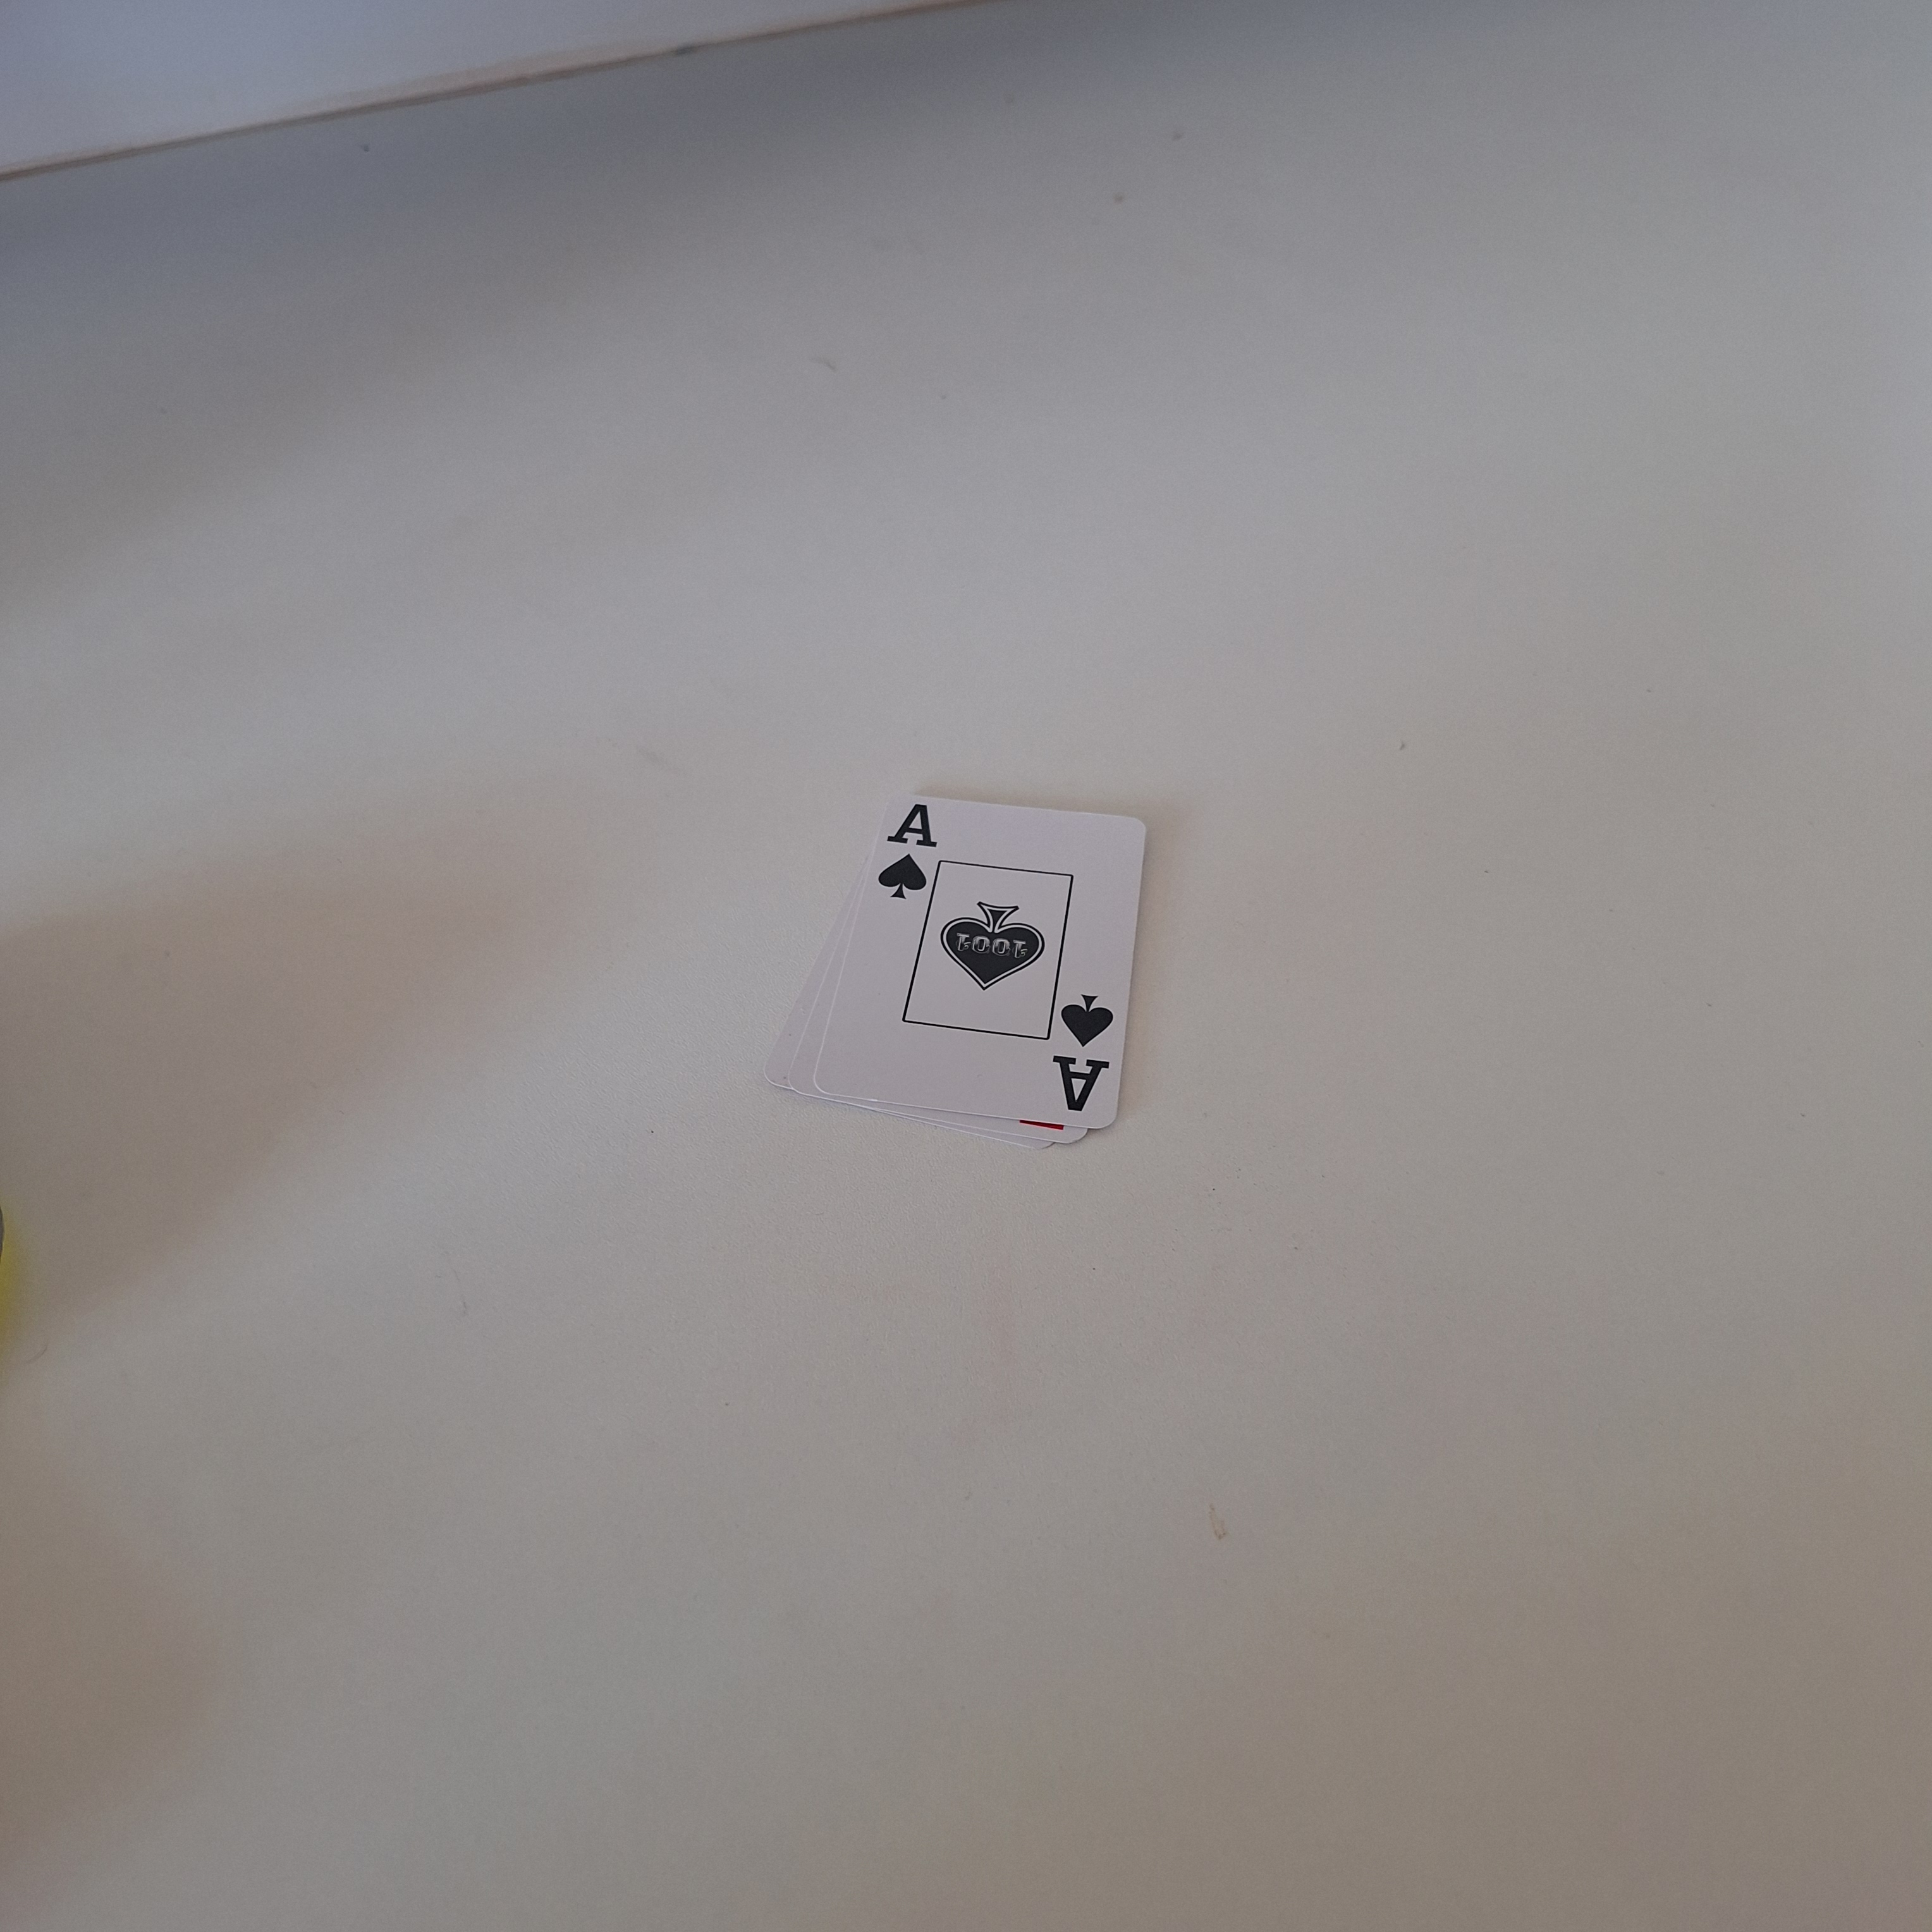AE: (1046, 989, 1129, 1125), (870, 798, 943, 906)
